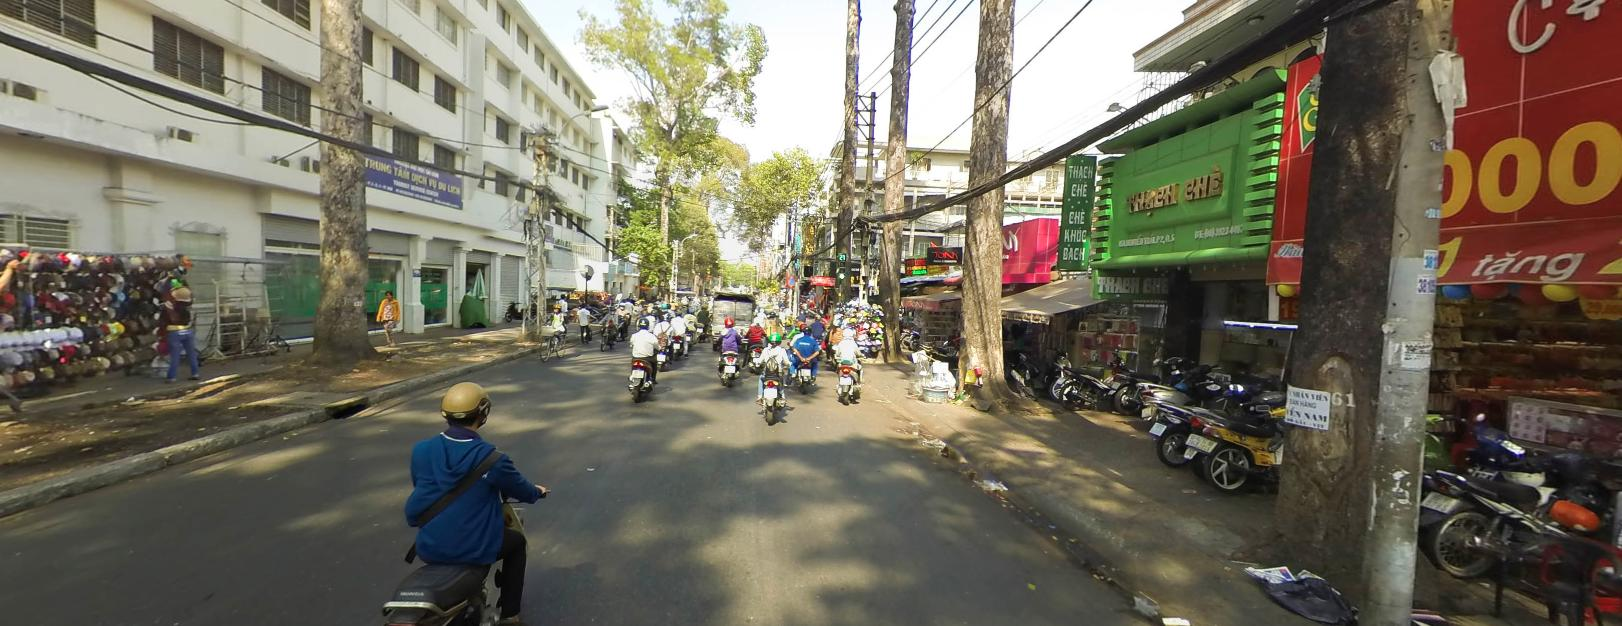Cam dung va do: (787, 275, 795, 285)
